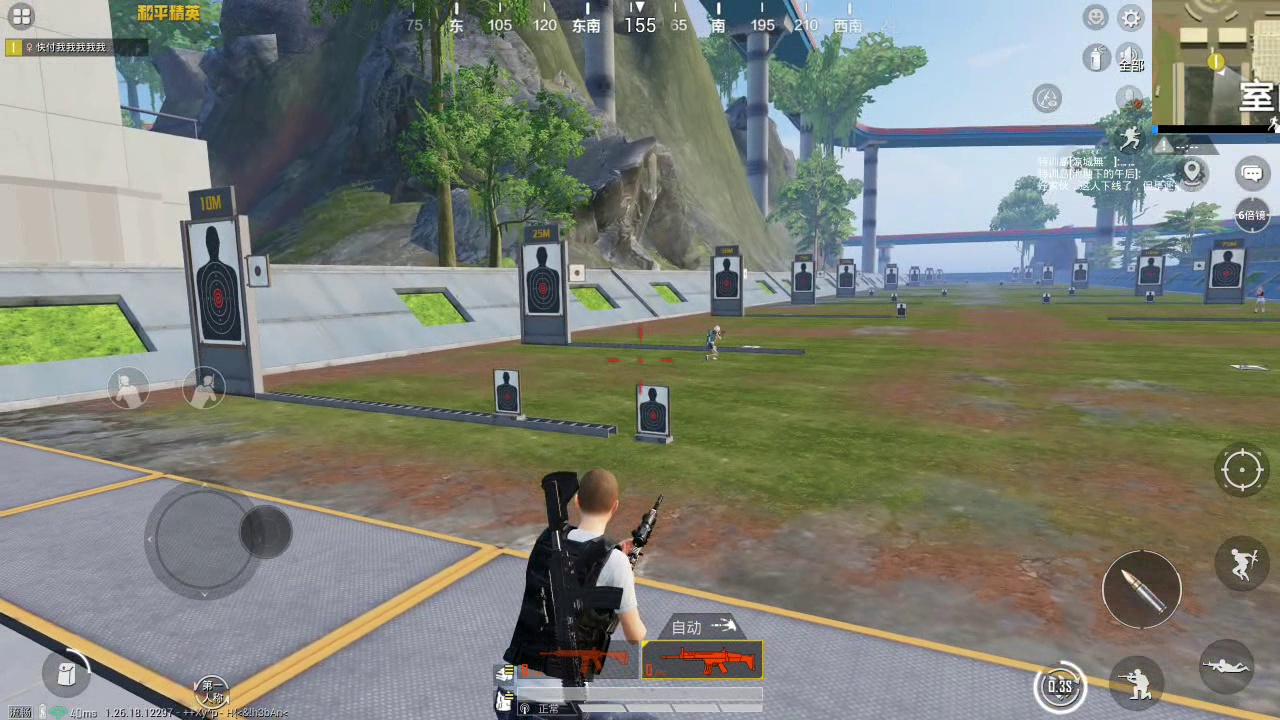enemy: (702, 325, 721, 360)
